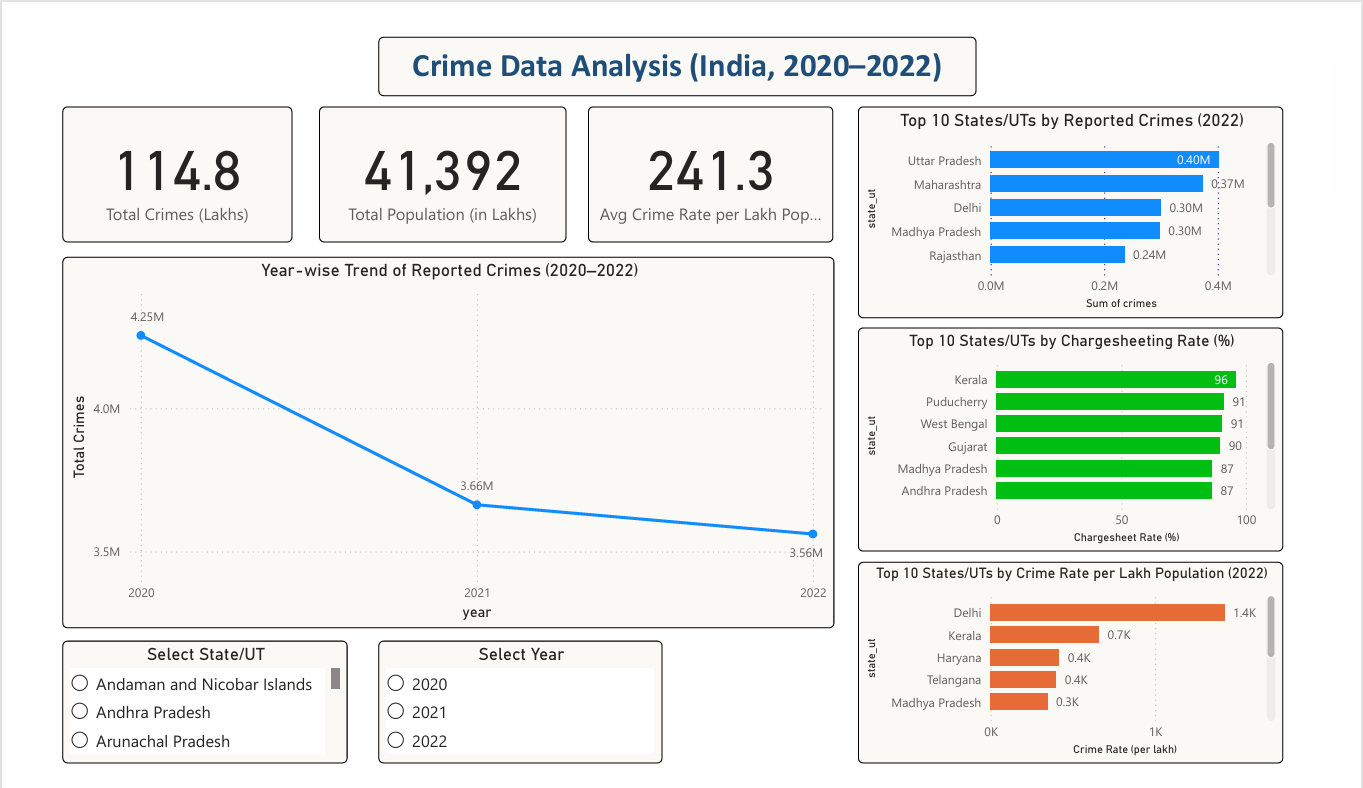

This screenshot's page, from the dashboard's own definition file:
{"tool":"powerbi","page":{"name":"Page 1","canvas":[1280,720],"ordinal":0},"visuals":[{"type":"card","title":"Total Crimes","fields":{"Values":["crime_data_analysis ipc_crimes.Total Crimes (Lakhs)"]},"box":[35.5,78.3,225,133.3],"z":0,"group":"g2"},{"type":"barChart","title":"Top 10 States/UTs by Reported Crimes (2022)","fields":{"Category":["crime_data_analysis ipc_crimes.state_ut"],"Y":["Sum(crime_data_analysis ipc_crimes.crimes)"]},"box":[813.2,78.3,415.8,206.7],"z":0,"group":"g1"},{"type":"lineChart","title":"Year-wise Trend of Reported Crimes (2020–2022)","fields":{"Category":["crime_data_analysis ipc_crimes.year"],"Y":["Sum(crime_data_analysis ipc_crimes.crimes)"]},"box":[35.5,225,754.5,363.2],"z":0},{"type":"card","title":"Total Crimes","fields":{"Values":["Sum(crime_data_analysis ipc_crimes.population_lakh)"]},"box":[286.2,78.3,242.1,133.3],"z":1000,"group":"g2"},{"type":"barChart","title":"Top 10 States/UTs by Chargesheeting Rate (%)","fields":{"Category":["crime_data_analysis ipc_crimes.state_ut"],"Y":["Sum(crime_data_analysis ipc_crimes.chargesheet_rate)"]},"box":[813.2,294.7,415.8,218.9],"z":1000,"group":"g1"},{"type":"listSlicer","title":"Select State/UT","fields":{"Values":["crime_data_analysis ipc_crimes.state_ut"]},"box":[35.5,600.4,278.8,119.8],"z":1000},{"type":"textbox","box":[343.6,9.8,585.7,58.7],"z":2000},{"type":"card","title":"Total Crimes","fields":{"Values":["Avg(crime_data_analysis ipc_crimes.rate_ipc)"]},"box":[549.1,78.3,240.9,133.3],"z":2000,"group":"g2"},{"type":"barChart","title":"Top 10 States/UTs by Crime Rate per Lakh Population (2022)","fields":{"Category":["crime_data_analysis ipc_crimes.state_ut"],"Y":["Sum(crime_data_analysis ipc_crimes.rate_ipc)"]},"box":[813.2,523.4,415.8,196.9],"z":2000,"group":"g1"},{"type":"listSlicer","title":"Select Year","fields":{"Values":["crime_data_analysis ipc_crimes.year"]},"box":[343.6,600.4,278.8,119.8],"z":3000},{"type":"group","id":"g1","title":"Group 1","box":[813.2,78.3,415.8,642],"z":4000},{"type":"group","id":"g2","title":"Group 2","box":[35.5,78.3,754.5,133.3],"z":5000}]}

Visuals, with their boxes in screenshot pixels (x1, y1, x2, y2), scaled from the page's 1280x720 canvas onto the 1363x788 screenshot:
"Total Crimes" card: region(38, 86, 277, 232)
"Top 10 States/UTs by Reported Crimes (2022)" barChart: region(866, 86, 1309, 312)
"Year-wise Trend of Reported Crimes (2020–2022)" lineChart: region(38, 246, 841, 644)
"Total Crimes" card: region(305, 86, 563, 232)
"Top 10 States/UTs by Chargesheeting Rate (%)" barChart: region(866, 323, 1309, 562)
"Select State/UT" listSlicer: region(38, 657, 335, 787)
textbox: region(366, 11, 990, 75)
"Total Crimes" card: region(585, 86, 841, 232)
"Top 10 States/UTs by Crime Rate per Lakh Population (2022)" barChart: region(866, 573, 1309, 787)
"Select Year" listSlicer: region(366, 657, 663, 787)
"Group 1" group: region(866, 86, 1309, 787)
"Group 2" group: region(38, 86, 841, 232)
